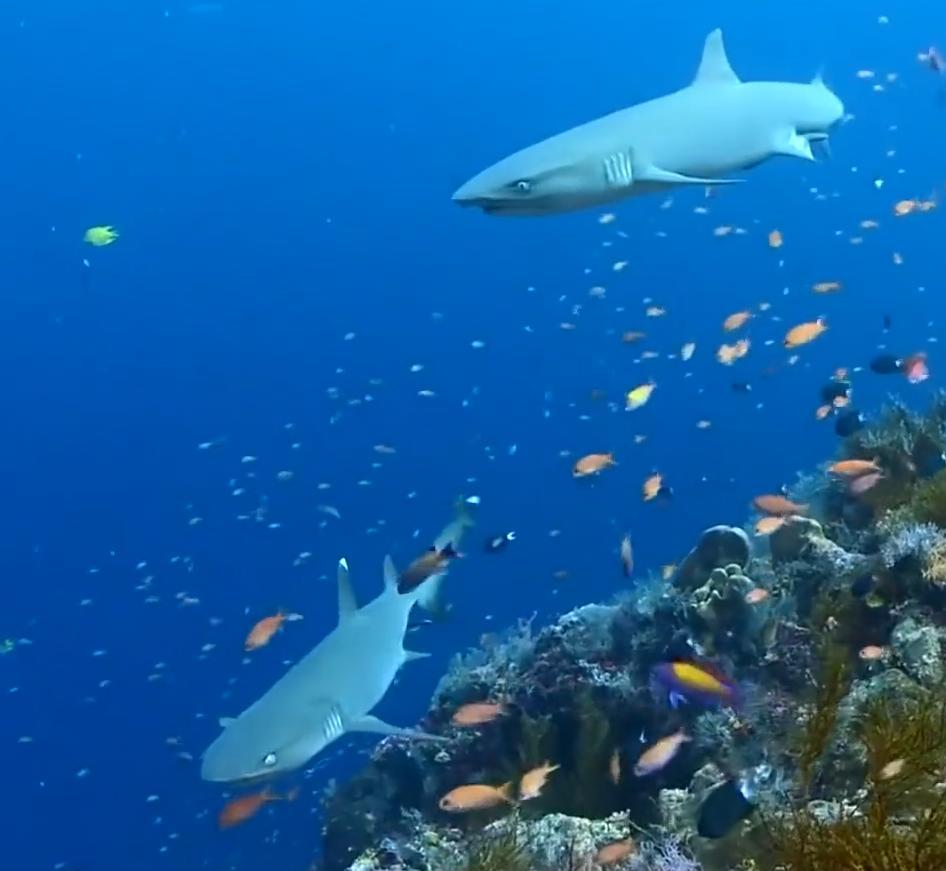fish: (446, 29, 860, 225)
